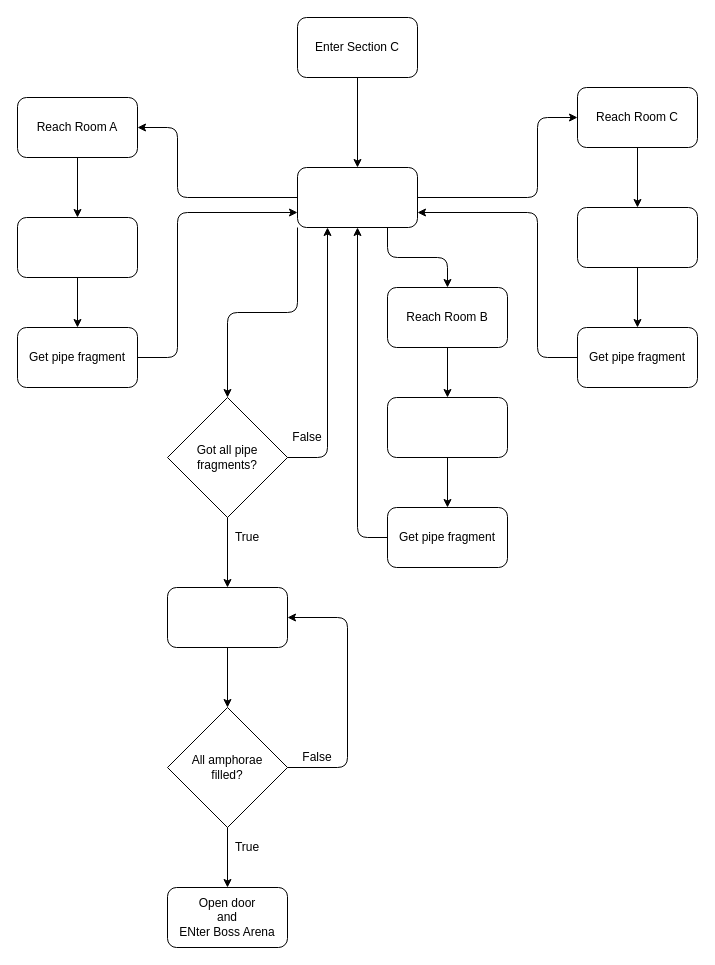
The diagram is 715 pixels wide and 965 high, and some of its shapes have lost their labels. The shapes that lost their labels are listed below. From the top down, each one's centre as x and y in pixels, then its label:
(357,197): Reach Hall
(77,247): Win Fight 1
(637,237): Win Fight 3
(447,427): Win Fight 2
(227,617): Fix a new pipe
